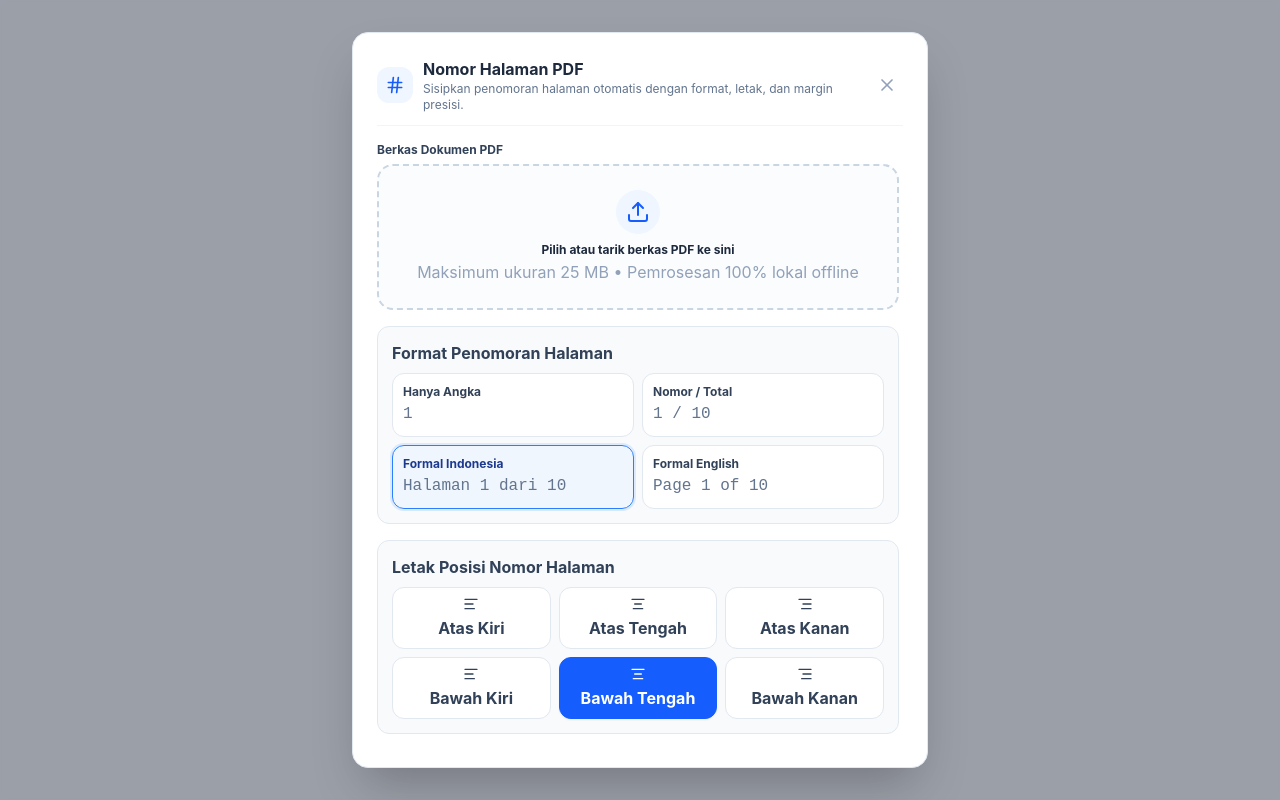
Test: PdfPageNumbersModal Component › dapat memilih format dan posisi penomoran halaman
The width and height of the screenshot is (1280, 800).
// Pilih format formal
Step 1. Click the button with test id "btn-format-Page-{n}-of-{total}" → (763, 477), box [642, 445, 884, 509]
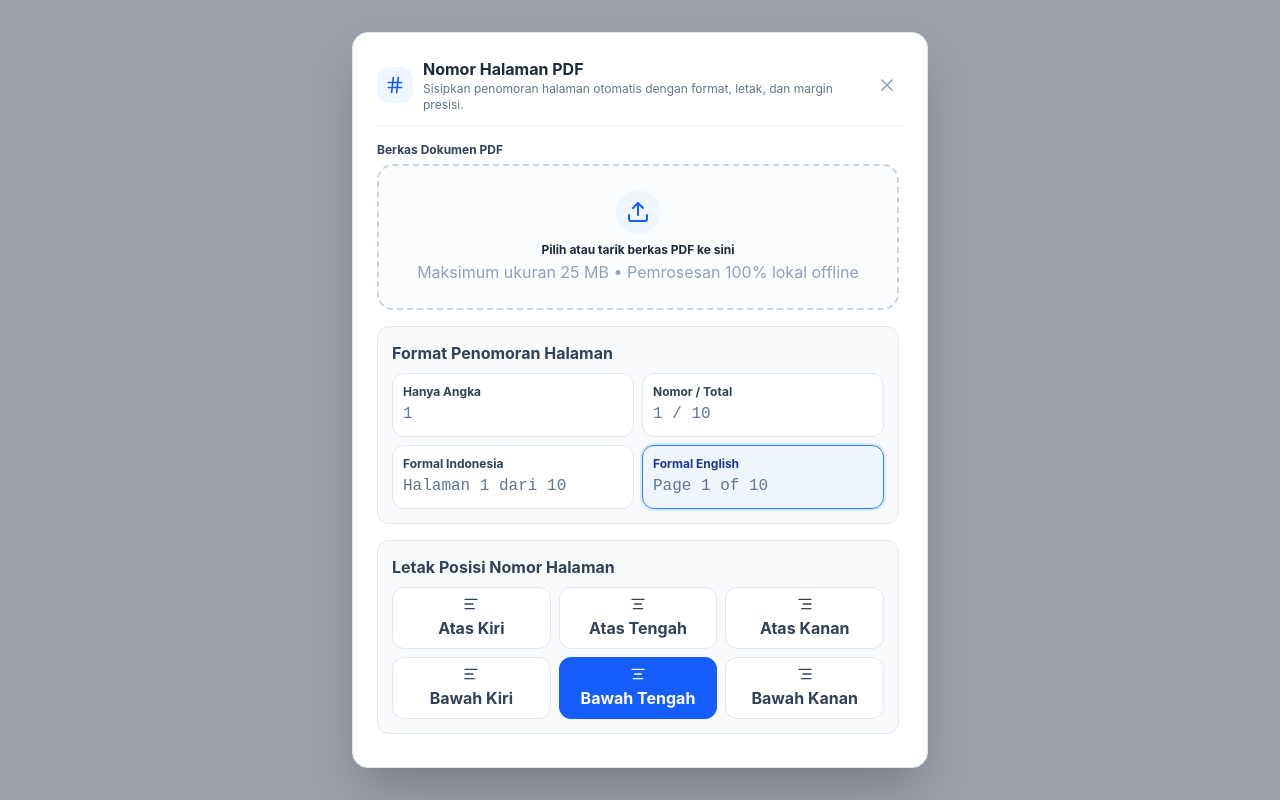
// Pilih posisi bottom-right
Step 2. Click the button with test id "btn-pos-bottom-right" → (805, 688), box [725, 657, 884, 719]
(page scrolled)
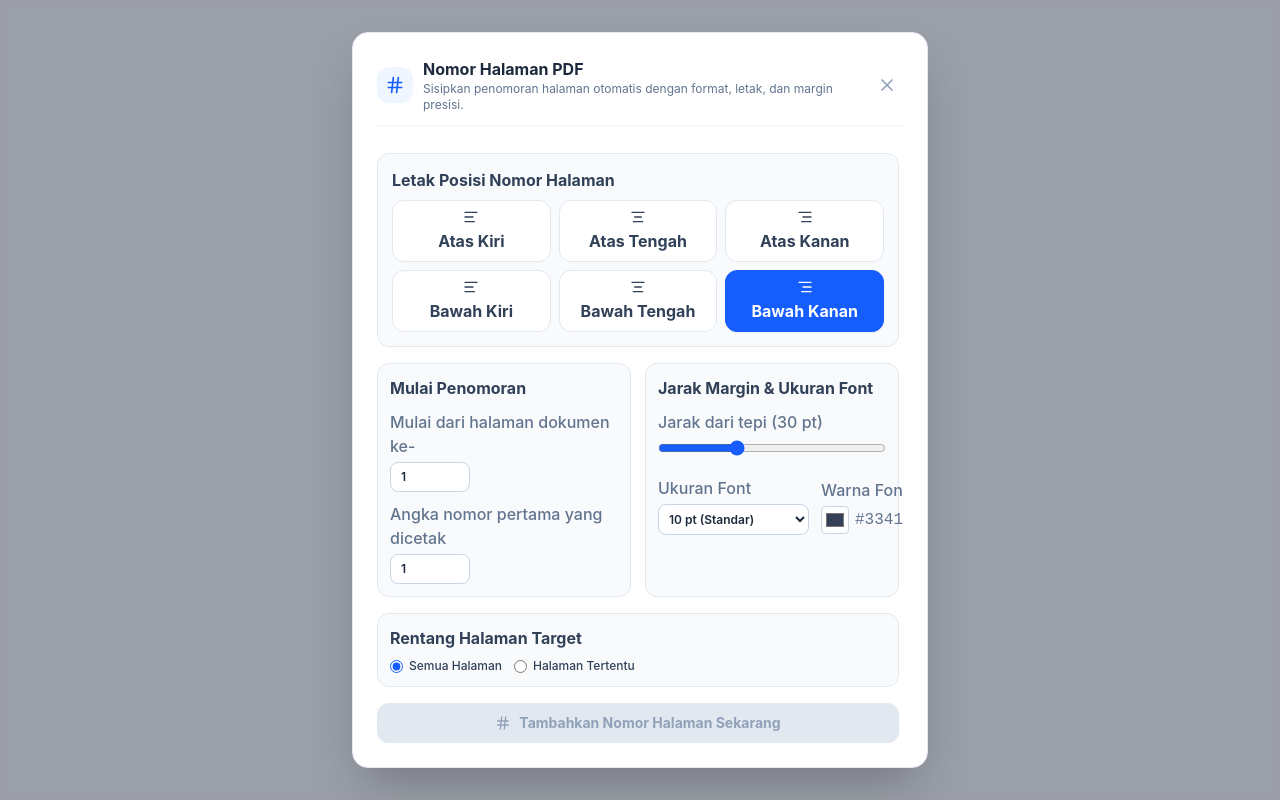
// Ganti mulai halaman
Step 3. Replace the text in the number field with test id "input-start-page" with "2" → (430, 477), box [390, 462, 470, 492]
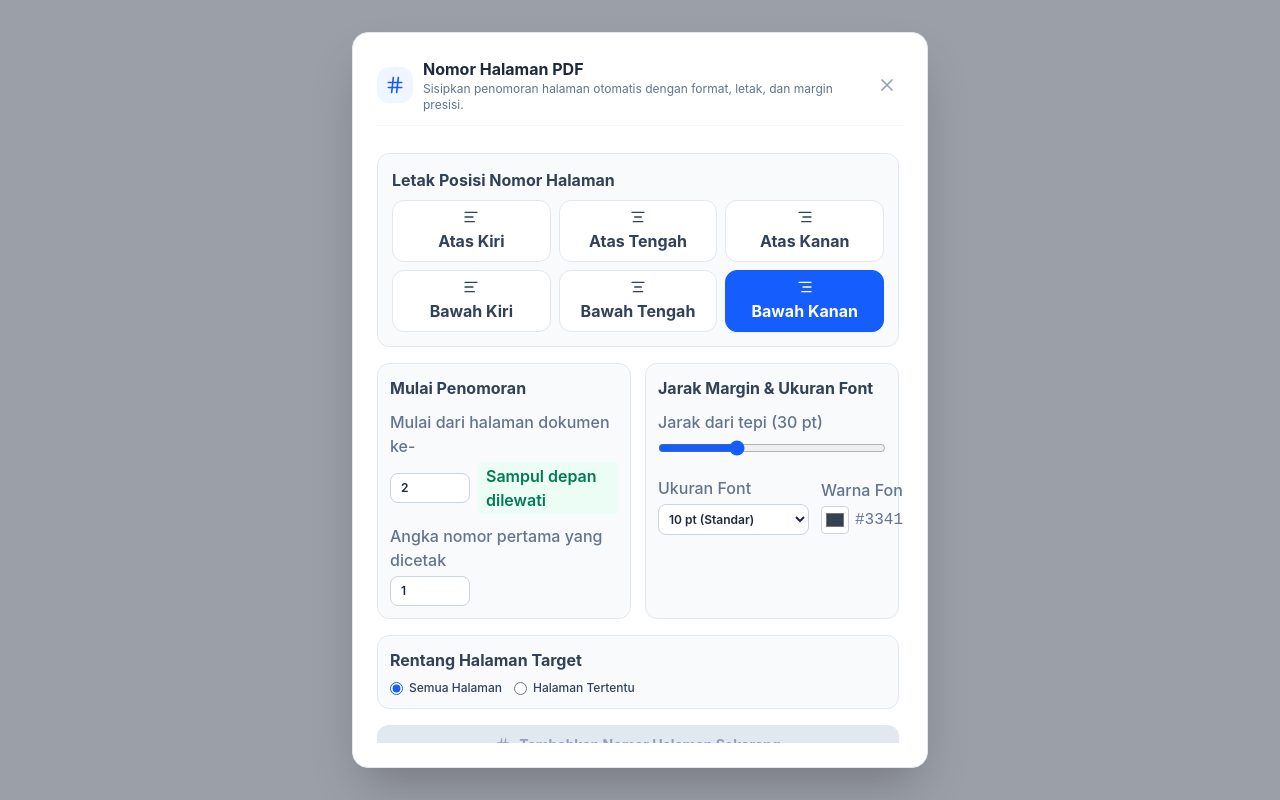
Check: the text "Sampul depan dilewati" is shown, box [478, 462, 618, 514]
